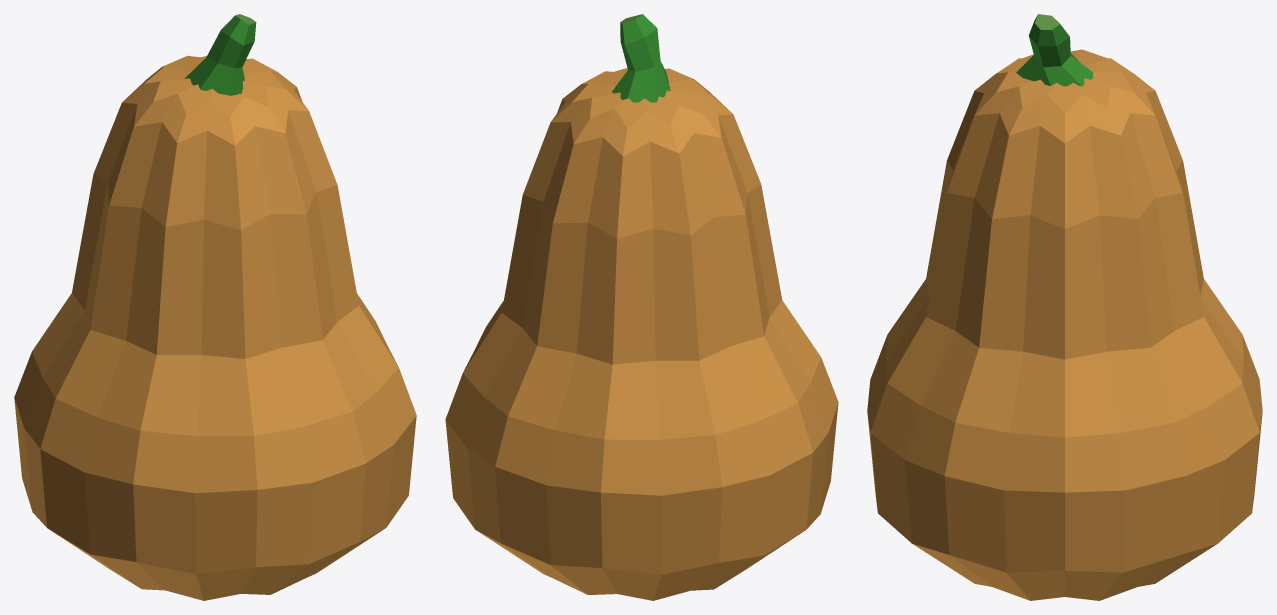
The model's file is pumpkin_2_mat.fbx.
3 views of the same model, side by side, from view 1: azimuth 30°, elevation 25°; view 2: azimuth 150°, elevation 25°; view 3: azimuth 270°, elevation 25° (orthographic). The views are drawn at different scales.
Visible parts, largest first — view 1: pumpkin_2_mat; view 2: pumpkin_2_mat; view 3: pumpkin_2_mat.
Boxes of the visible parts, <box> form: pumpkin_2_mat: <box>14,14,416,600</box>; pumpkin_2_mat: <box>445,14,838,600</box>; pumpkin_2_mat: <box>867,14,1262,600</box>.
Size of the model in its own units: 186 by 279 by 180.
